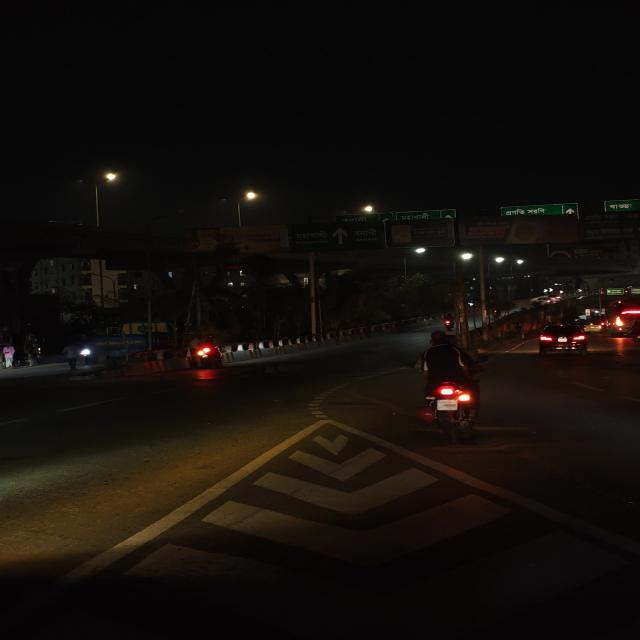bus: (610, 294, 640, 336)
car: (533, 322, 592, 358)
motorcycle: (411, 334, 494, 440), (185, 333, 225, 368), (442, 312, 458, 332)
